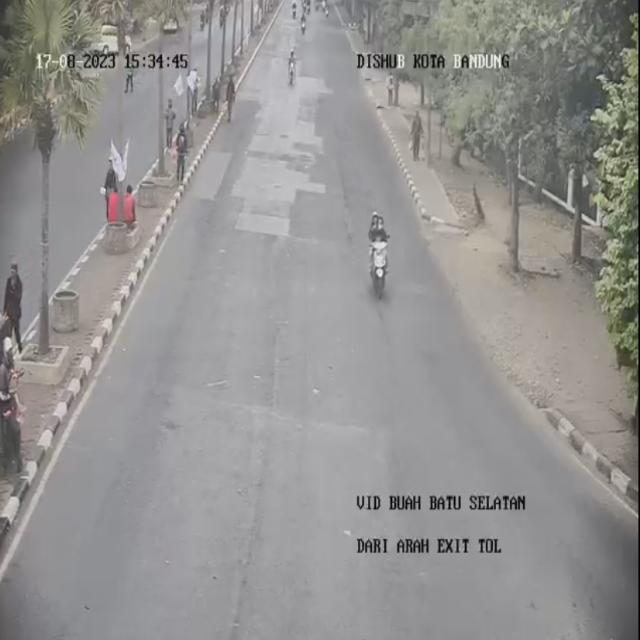motorcycle: (363, 203, 392, 300), (286, 38, 305, 89), (297, 2, 313, 38)
